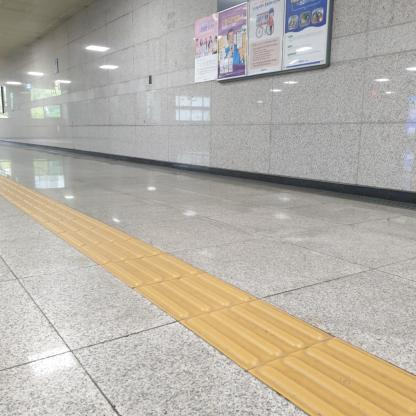go: (178, 299, 335, 371), (131, 272, 259, 321), (100, 253, 207, 288), (75, 238, 167, 265), (55, 226, 134, 249)
